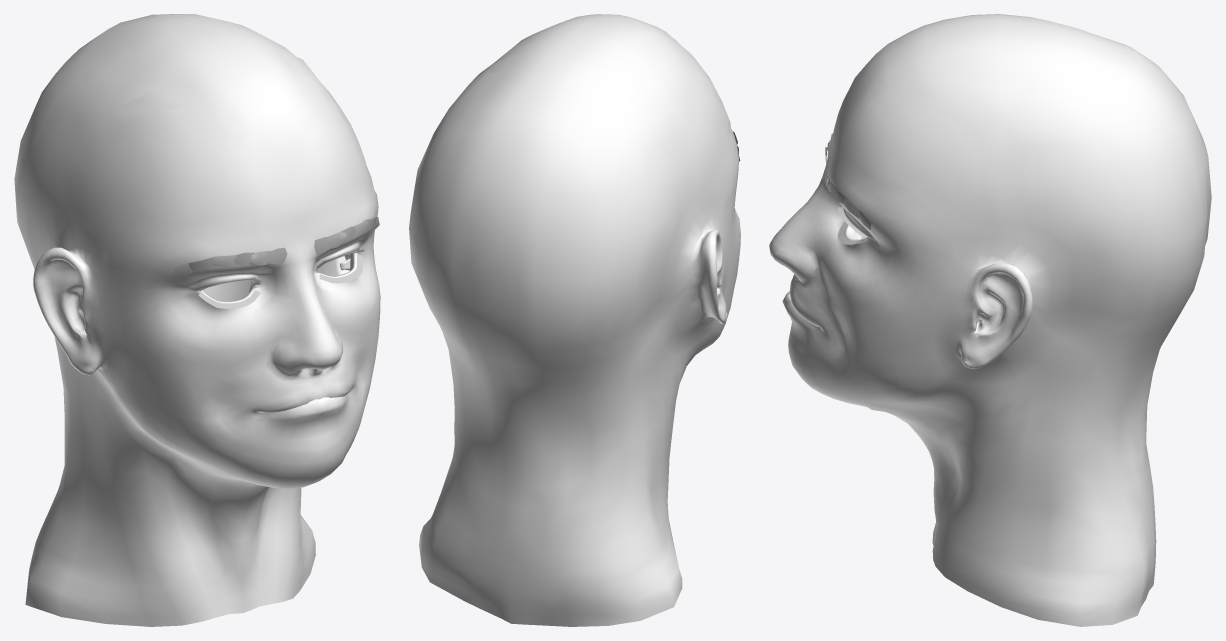
Rendered from mouthShrugLower.obj.
3 renders of one model, left to right at view 1: azimuth 30°, elevation 25°; view 2: azimuth 150°, elevation 25°; view 3: azimuth 270°, elevation 25°, orthographic. The views are drawn at different scales.
Parts seen in each view (by area): view 1: FaceMesh_Plane.003; view 2: FaceMesh_Plane.003; view 3: FaceMesh_Plane.003.
Boxes of the visible parts, <box> form: FaceMesh_Plane.003: <box>14,14,380,626</box>; FaceMesh_Plane.003: <box>409,14,740,626</box>; FaceMesh_Plane.003: <box>769,14,1211,626</box>.
Size of the model in its own units: 1.54 by 2.71 by 1.94.
Materials: 5 (1 with a texture image).
